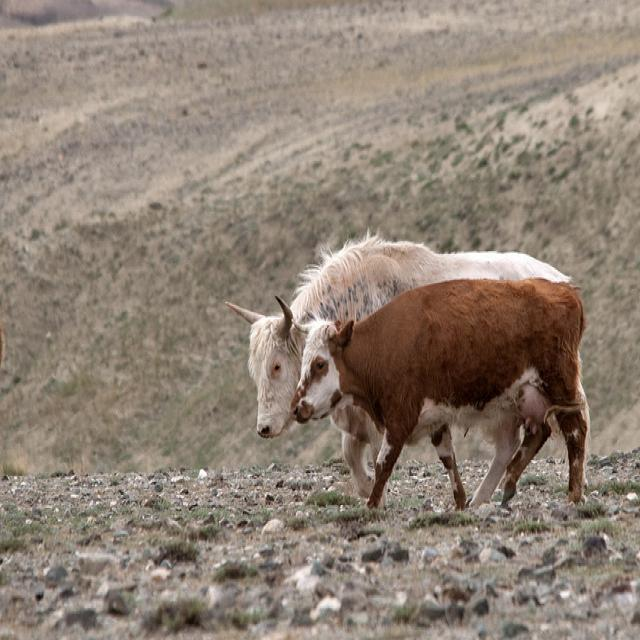cow: (224, 221, 575, 510), (287, 274, 595, 517)
